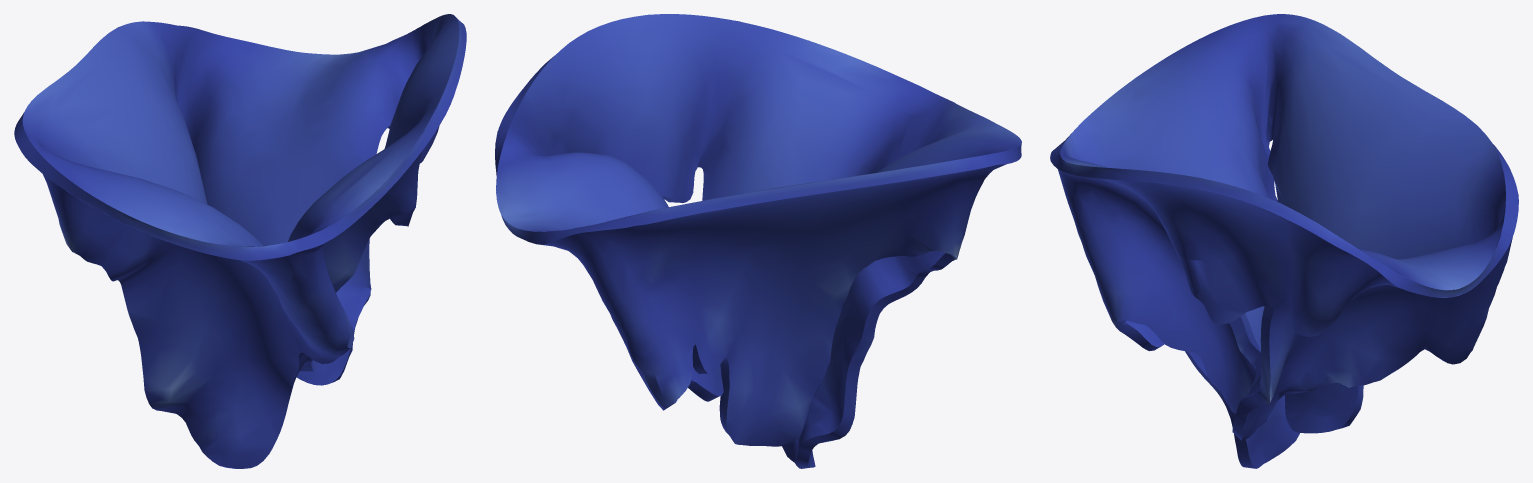
3 renders of one model, left to right at view 1: azimuth 30°, elevation 25°; view 2: azimuth 150°, elevation 25°; view 3: azimuth 270°, elevation 25°, orthographic. The views are drawn at different scales.
Parts seen in each view (by area): view 1: OCS14_maxS_19; view 2: OCS14_maxS_19; view 3: OCS14_maxS_19.
Part boxes in pixels (x1,y1,x2,y2): OCS14_maxS_19: (14,14,466,468); OCS14_maxS_19: (495,14,1021,468); OCS14_maxS_19: (1050,14,1518,468).
Bounding box in the file's own units: 1.44 × 1.17 × 1.32.
